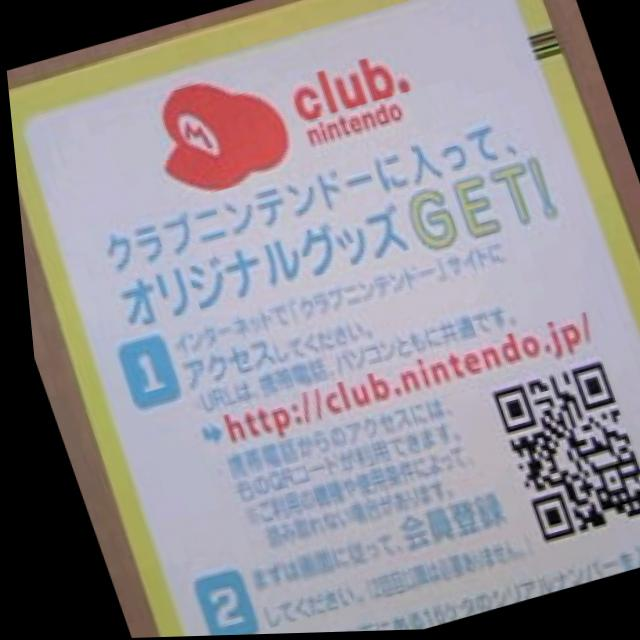qrcode: (482, 365, 640, 545)
